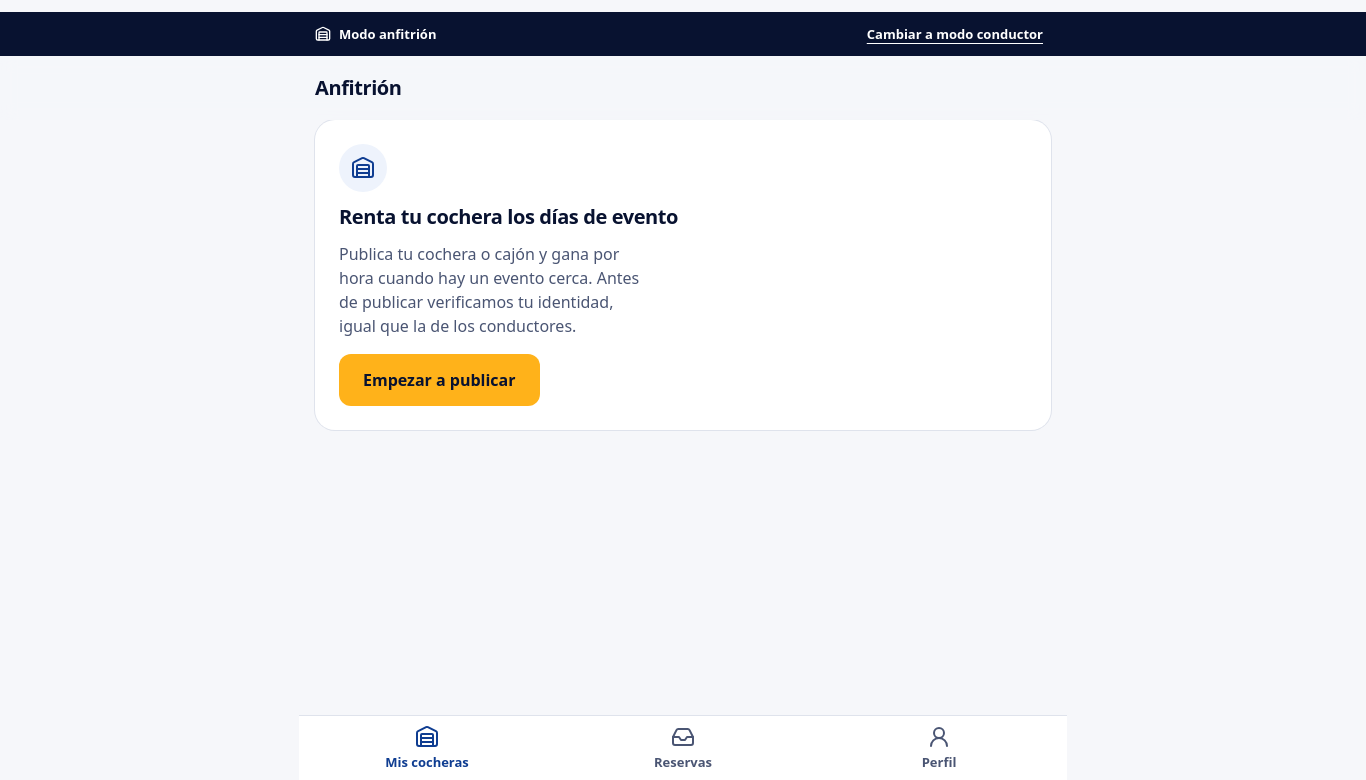
Test: each mode has its own bar › stays in host mode when moving between host tabs, including the profile
Click the button "Perfil": [939, 748] box [811,716,1067,779]
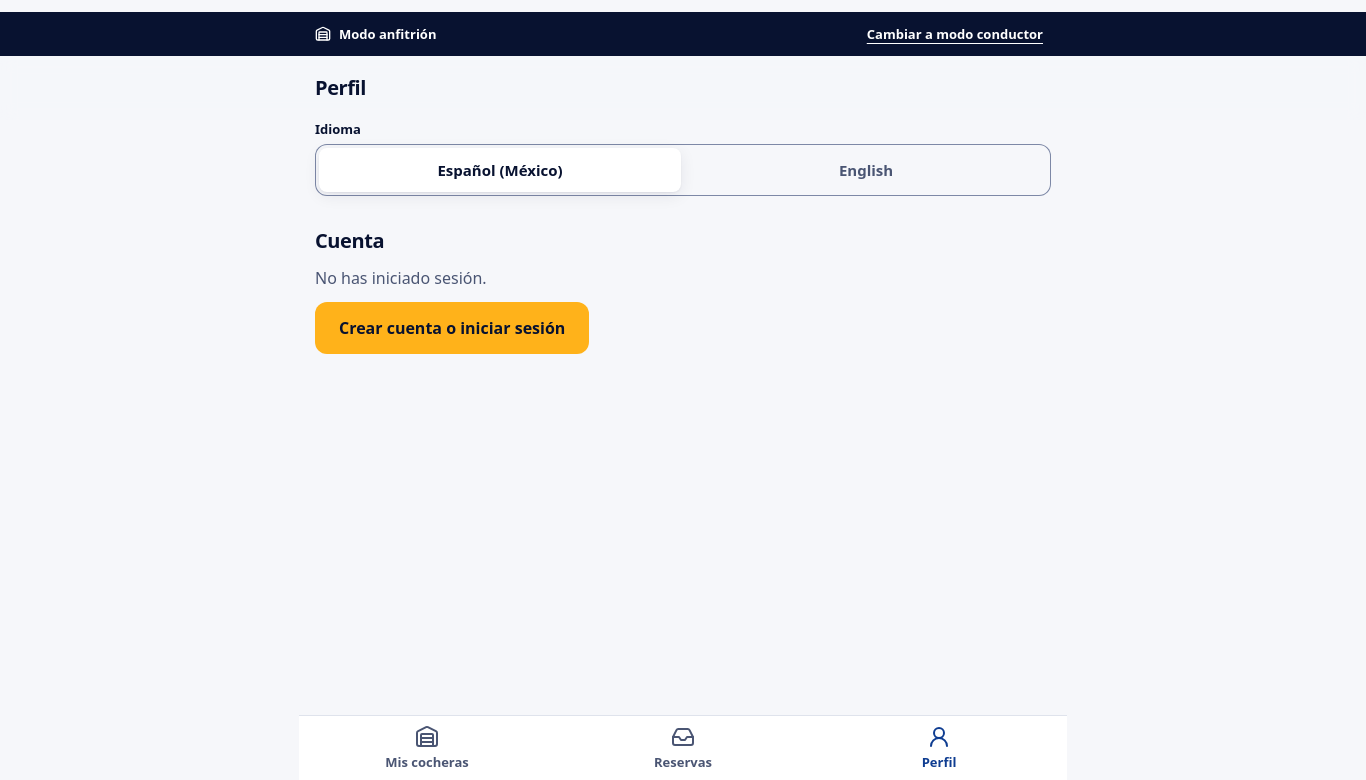
expect the text "Modo anfitrión" is shown: met, box [315,25,436,43]
expect the heading "Perfil" is shown: met, box [315,74,366,101]
